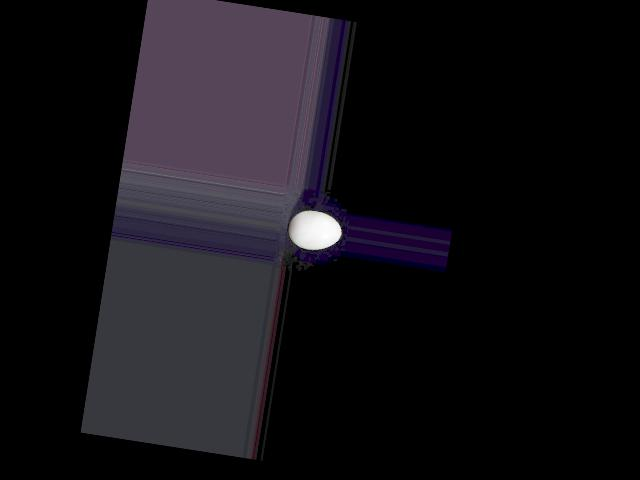egg: (285, 207, 343, 253)
